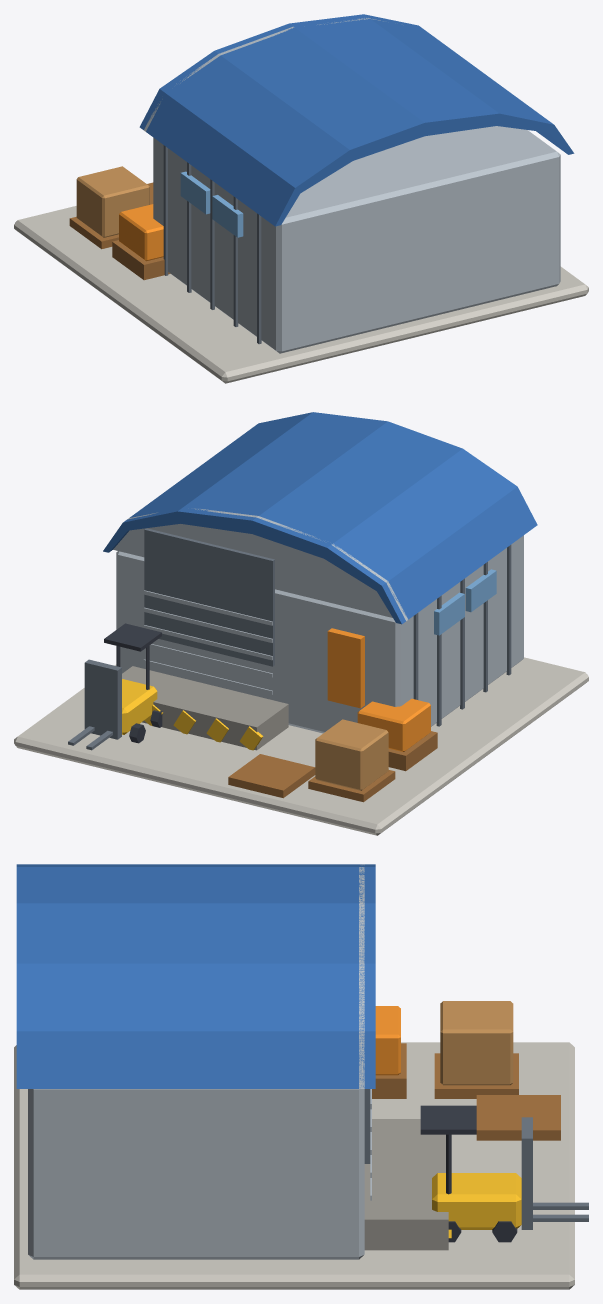
File: galpao.glb
3 views of the same model, one above another, from view 1: azimuth 30°, elevation 25°; view 2: azimuth 150°, elevation 25°; view 3: azimuth 270°, elevation 25° (orthographic). The views are drawn at different scales.
Parts seen in each view (by area): view 1: corpo; view 2: corpo; view 3: corpo.
Part boxes in pixels (x1,y1,x2,y2): corpo: (14, 14, 588, 383); corpo: (14, 412, 588, 835); corpo: (14, 864, 588, 1289).
Size of the model in its own units: 2 by 1.11 by 2.05.
